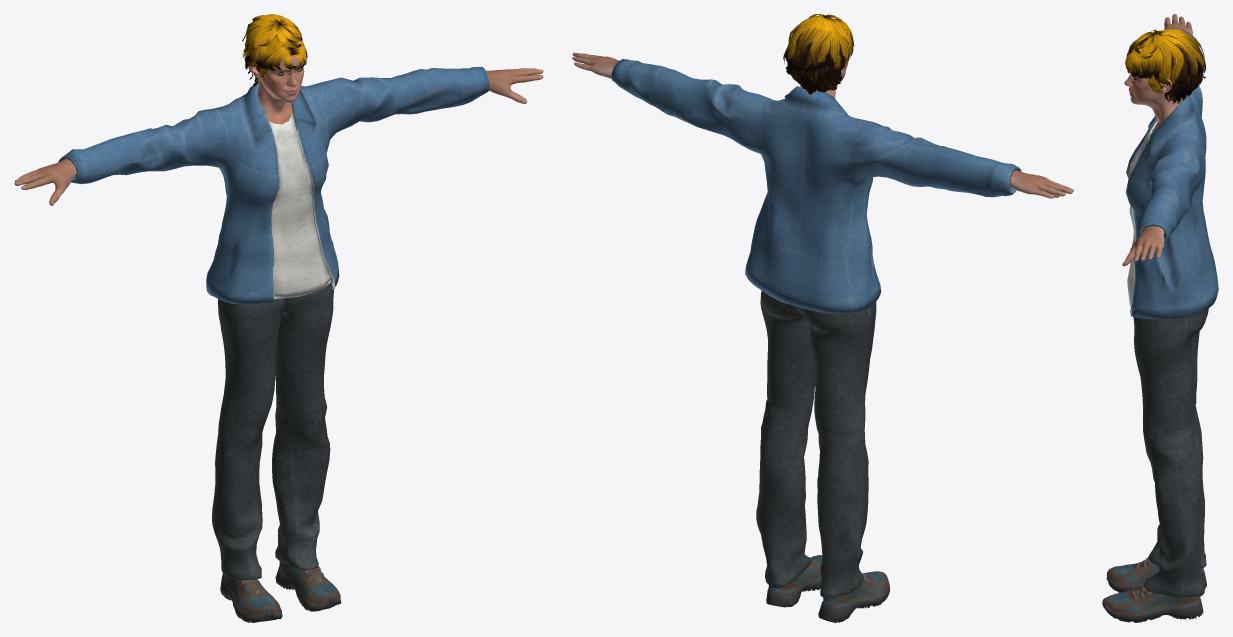
The model's file is GraceJean-OBJ.obj.
3 views of the same model, side by side, from view 1: azimuth 30°, elevation 25°; view 2: azimuth 150°, elevation 25°; view 3: azimuth 270°, elevation 25° (orthographic). The views are drawn at different scales.
Parts seen in each view (by area): view 1: Tops, Bottoms, Body, Shoes, Hair; view 2: Tops, Bottoms, Hair, Shoes, Body; view 3: Bottoms, Tops, Hair, Shoes, Body.
Boxes of the visible parts, <box> form: Tops: <box>58,67,489,304</box>; Bottoms: <box>212,282,333,579</box>; Body: <box>14,50,543,205</box>; Shoes: <box>220,561,341,622</box>; Hair: <box>242,14,307,86</box>; Tops: <box>611,59,1021,313</box>; Bottoms: <box>756,291,876,598</box>; Hair: <box>783,14,854,94</box>; Shoes: <box>766,555,889,622</box>; Body: <box>572,52,1073,198</box>; Bottoms: <box>1133,308,1208,597</box>; Tops: <box>1126,30,1218,319</box>; Hair: <box>1125,29,1206,104</box>; Shoes: <box>1102,557,1206,622</box>; Body: <box>1122,14,1192,266</box>.
Size of the model in its own units: 176 by 191 by 35.2.
Materials: 5 (5 with a texture image).
